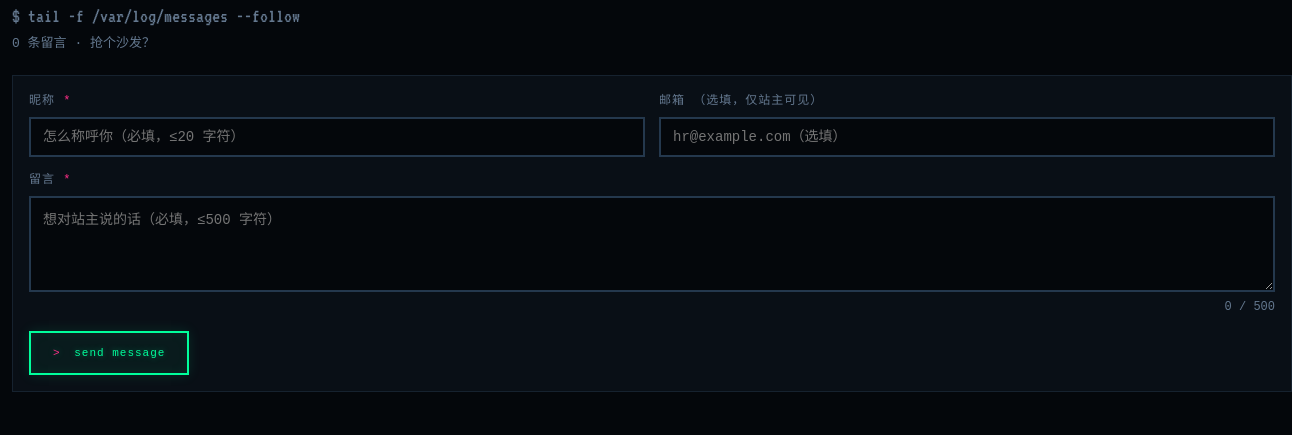
Test: 前端预校验（后端 400 双保险的前一道闸） › 昵称为空提交：字段错误提示且不调提交接口
The width and height of the screenshot is (1292, 435).
Type "你好" into the text box named "content".
click(652, 244); type("你好")  # box [29, 196, 1275, 292]
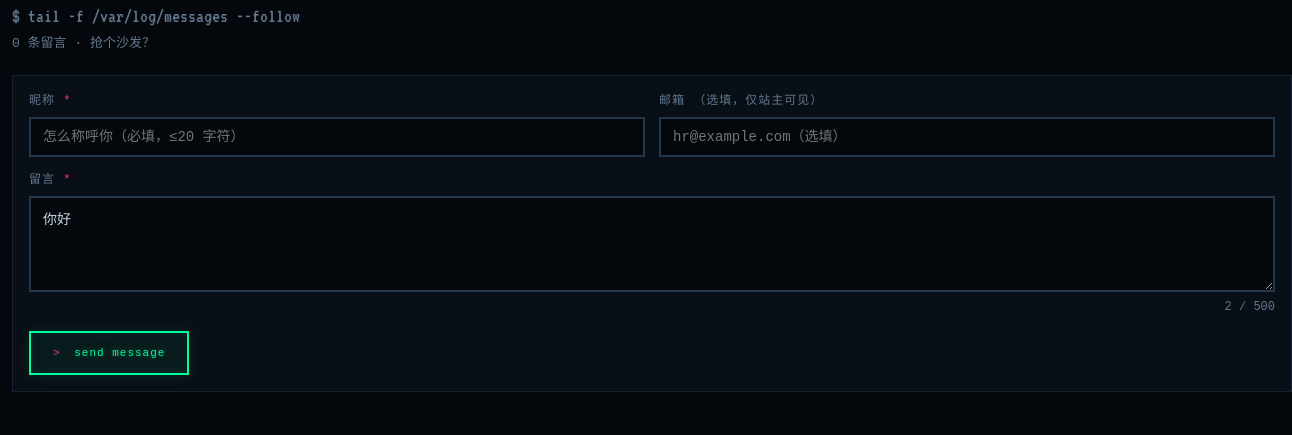
Submit the form
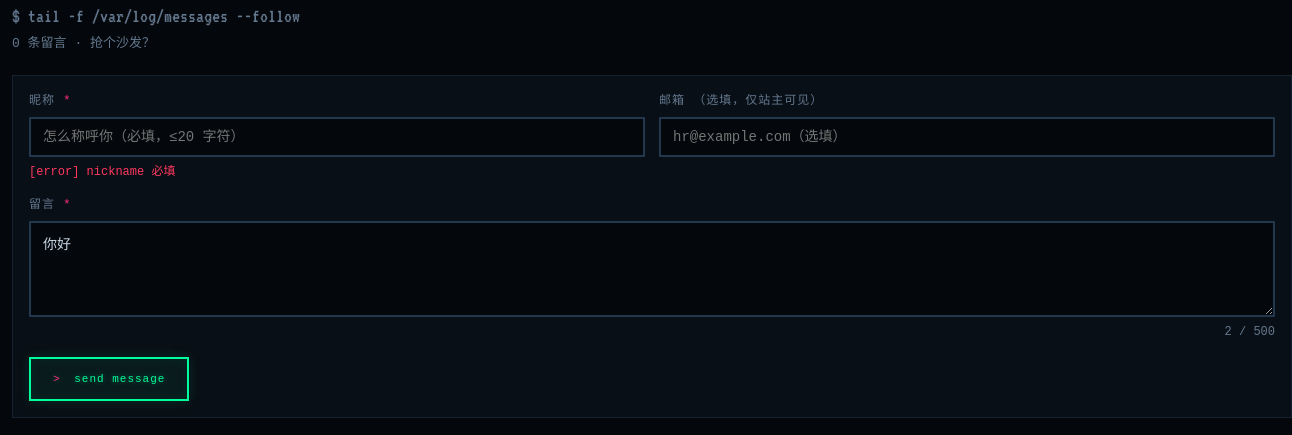
Now the text "nickname 必填" is shown, box [29, 165, 175, 179]
